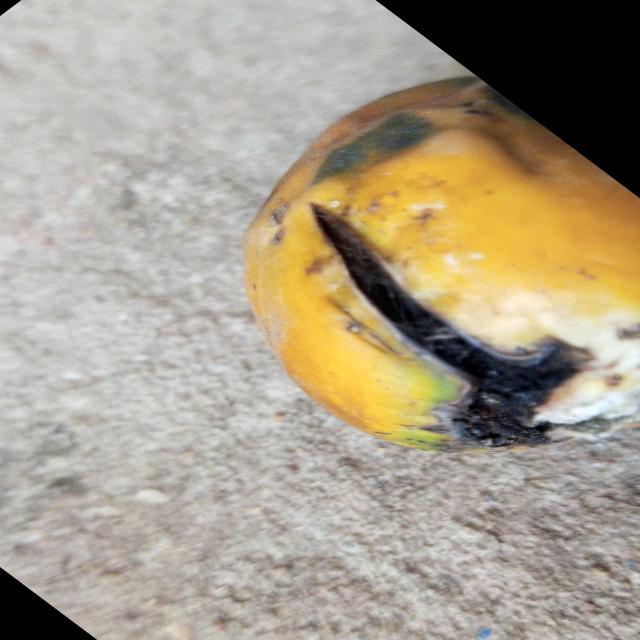damaged: (241, 76, 640, 454)
